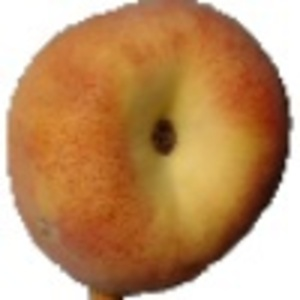pêssego: (4, 1, 300, 300)
